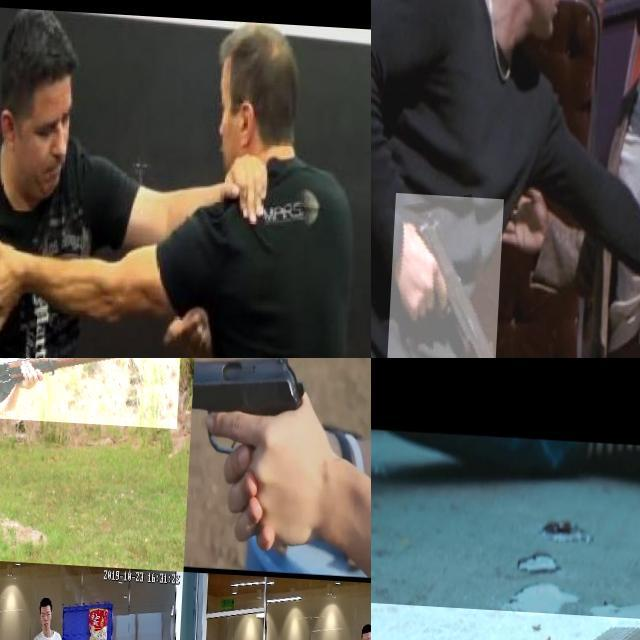gun-knife-thesis - v11 Yolov5 augmented: (187, 358, 324, 546), (392, 190, 508, 358), (0, 358, 182, 425)
